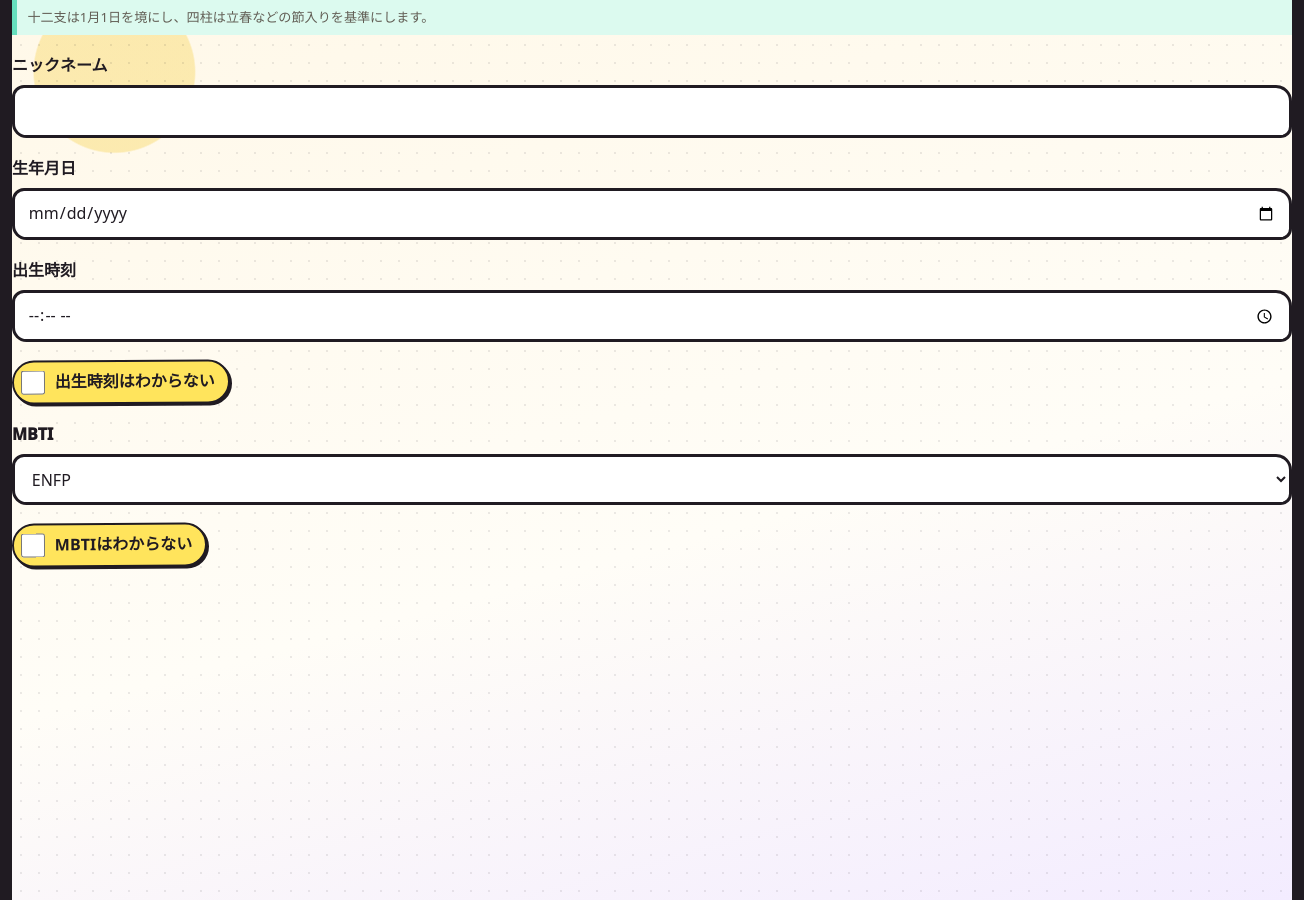
Test: ProfileForm › clears and disables MBTI when わからない is selected
What coordinates should you click on to do the following:
click the checkbox labelled "MBTIはわからない"
I would click on:
 (33, 546)
Its box is [21,534,45,558].
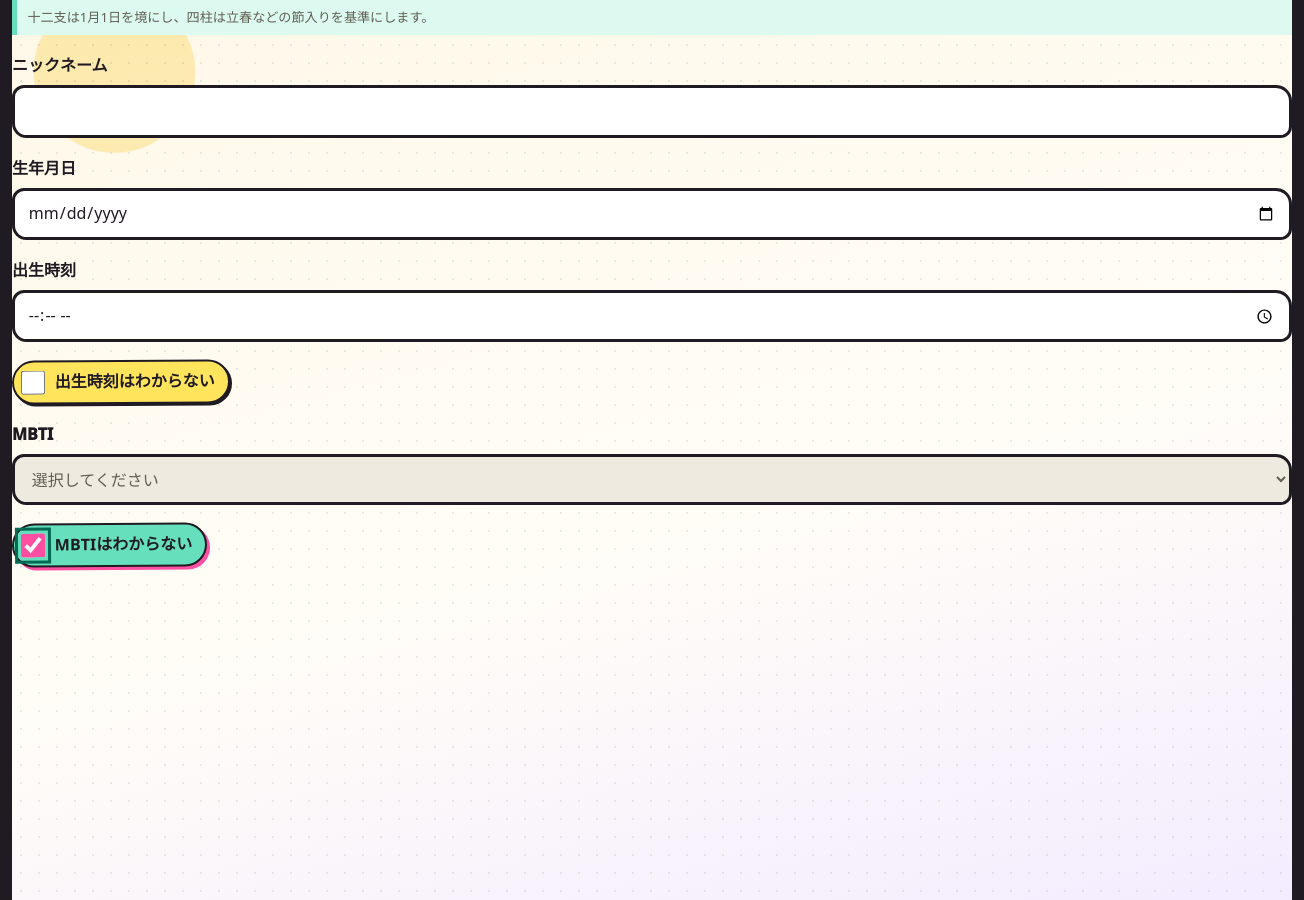
Result: the dropdown labelled "MBTI" is disabled at [12,454,1292,505]
Result: the dropdown labelled "MBTI" shows "選択してください" at [12,454,1292,505]
